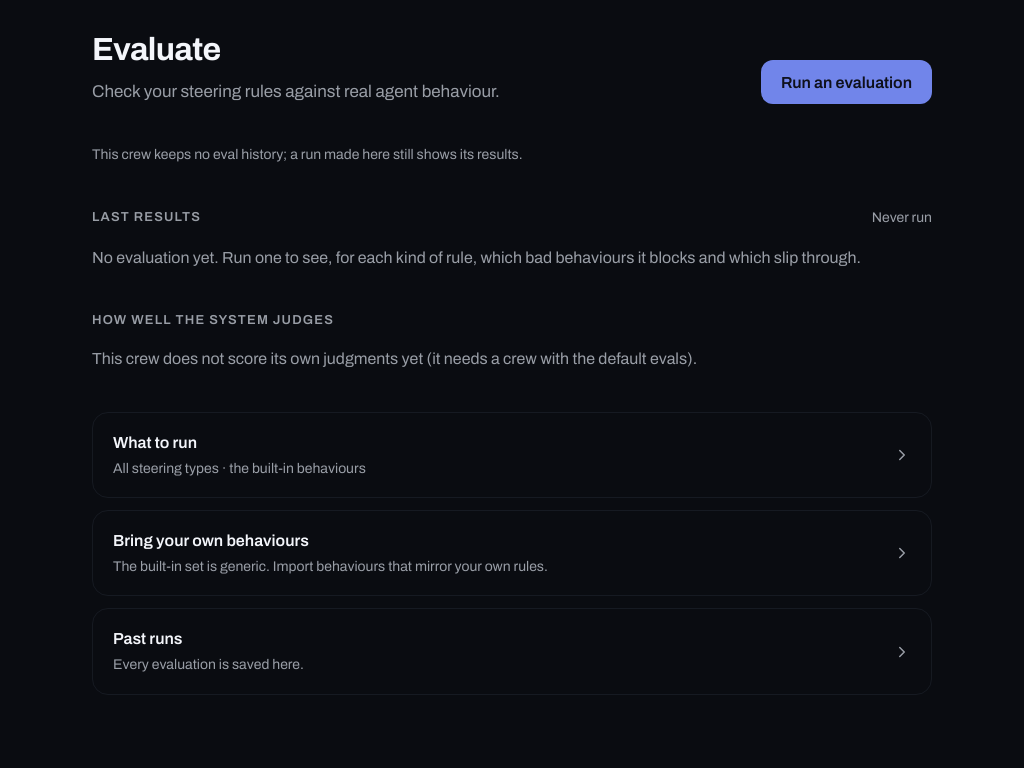
Test: Evals — the run › an empty corpus is an empty state in words — the run settles, no spinner survives
Step 1. Click the button with test id "testing-evals-run" → (846, 82), box [761,60,932,104]
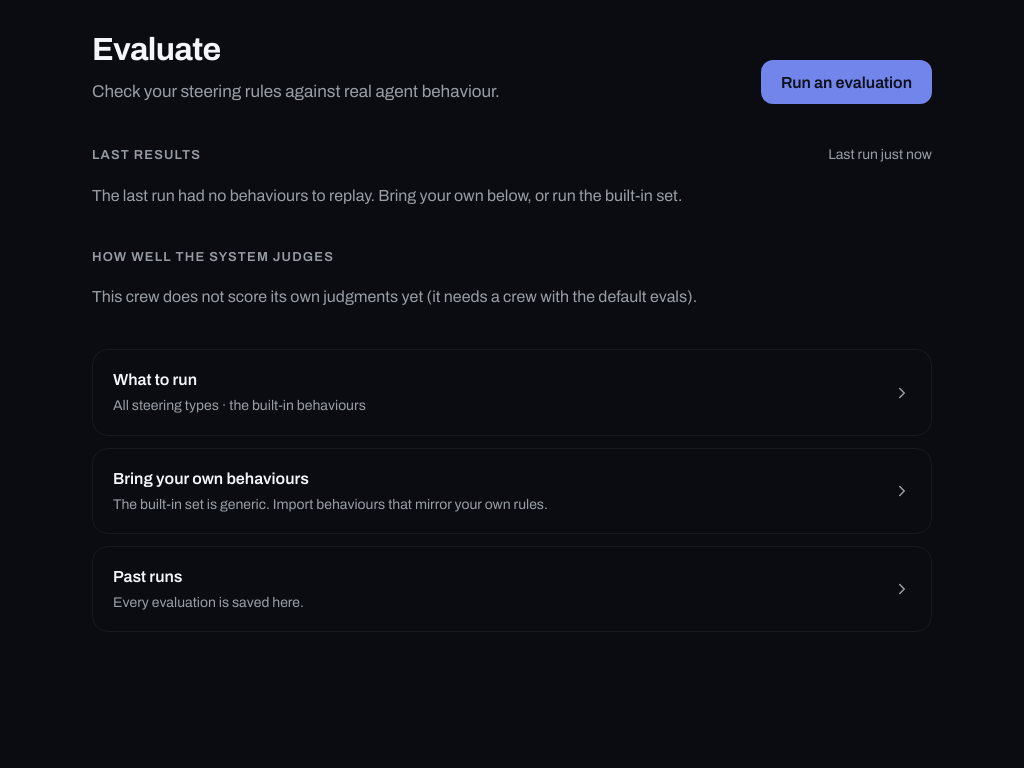
Result: the text with test id "testing-evals-empty" shows "no behaviours to replay" at [92,187,682,204]
